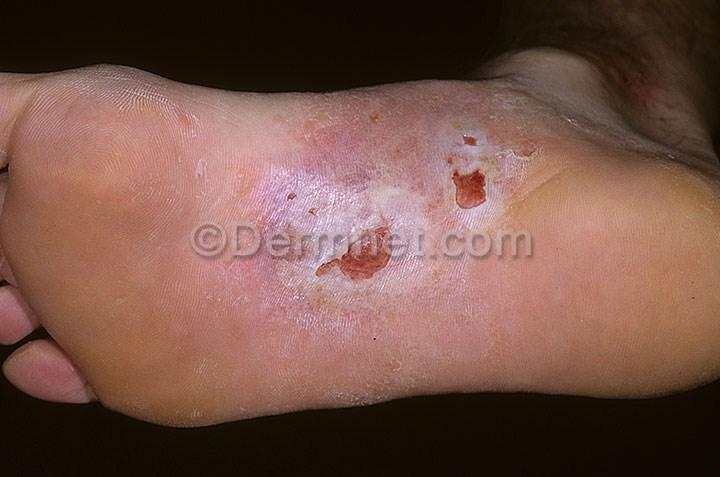Eczema: (294, 170, 413, 295), (425, 109, 526, 224)
